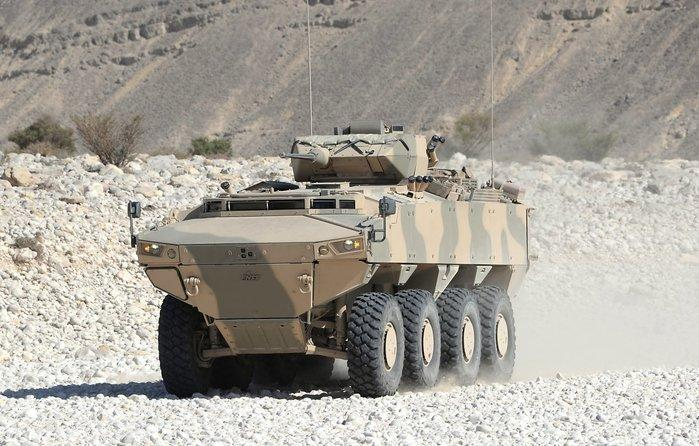MIL_IFV: (126, 117, 536, 400)
